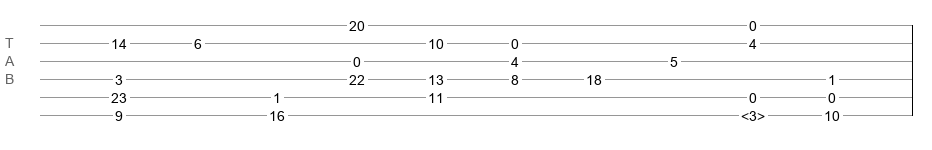0: (353, 54, 361, 64), (511, 36, 519, 46), (749, 18, 757, 28), (749, 90, 757, 100), (828, 90, 836, 100)
1: (273, 90, 281, 100), (828, 72, 836, 82)
10: (428, 36, 444, 46), (824, 108, 840, 118)
11: (428, 90, 444, 100)
13: (428, 72, 444, 82)
14: (111, 36, 127, 46)
16: (269, 108, 285, 118)
18: (586, 72, 602, 82)
20: (349, 18, 365, 28)
22: (349, 72, 365, 82)
23: (111, 90, 127, 100)
3: (115, 72, 123, 82)
4: (511, 54, 519, 64), (749, 36, 757, 46)
5: (670, 54, 678, 64)
6: (194, 36, 202, 46)
8: (511, 72, 519, 82)
9: (115, 108, 123, 118)
harmonic: (741, 108, 765, 118)
